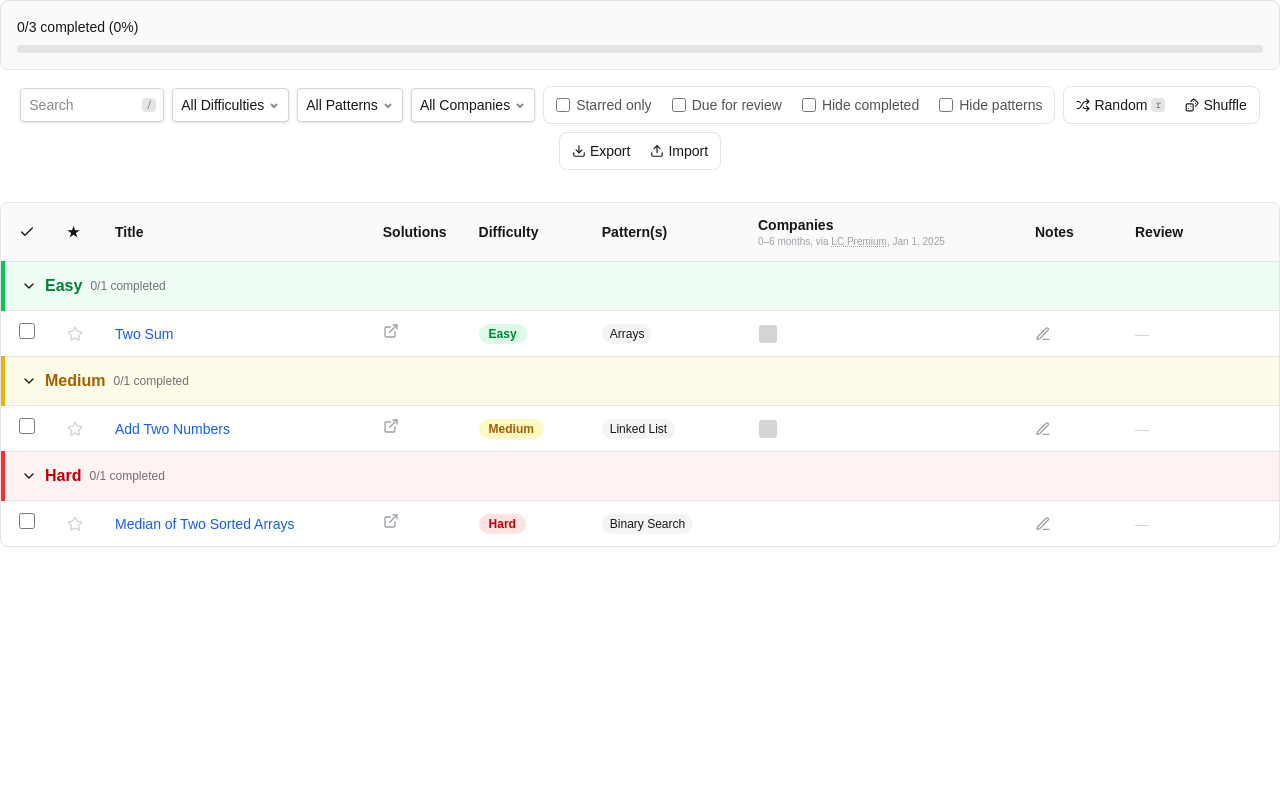
Test: QuestionsTable analytics › discards note changes when clicking Discard
Step 1. Click the button named "Add note for Two Sum" → x=1043, y=334, box 1035,326 -> 1051,342
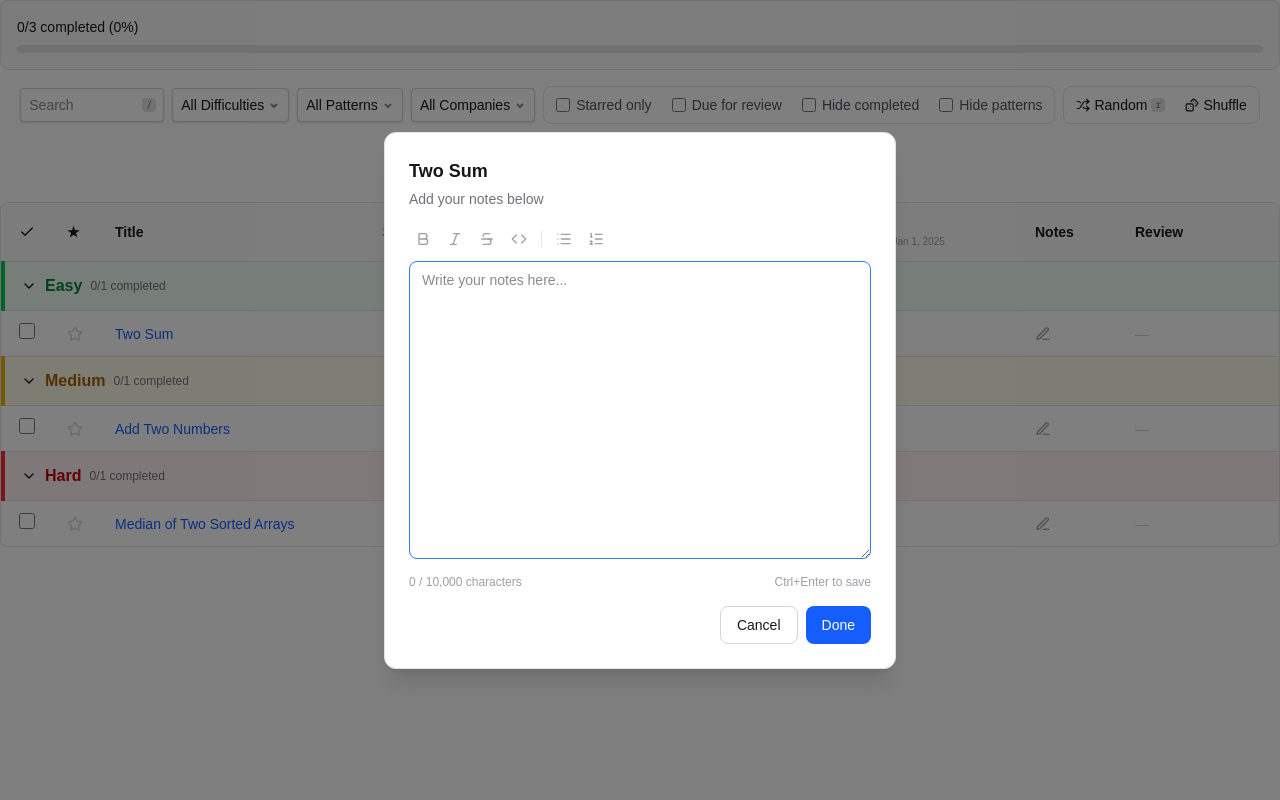
Step 2. Type "unsaved text" into the text box with placeholder "Write your notes here..." → x=640, y=410, box 409,260 -> 871,558
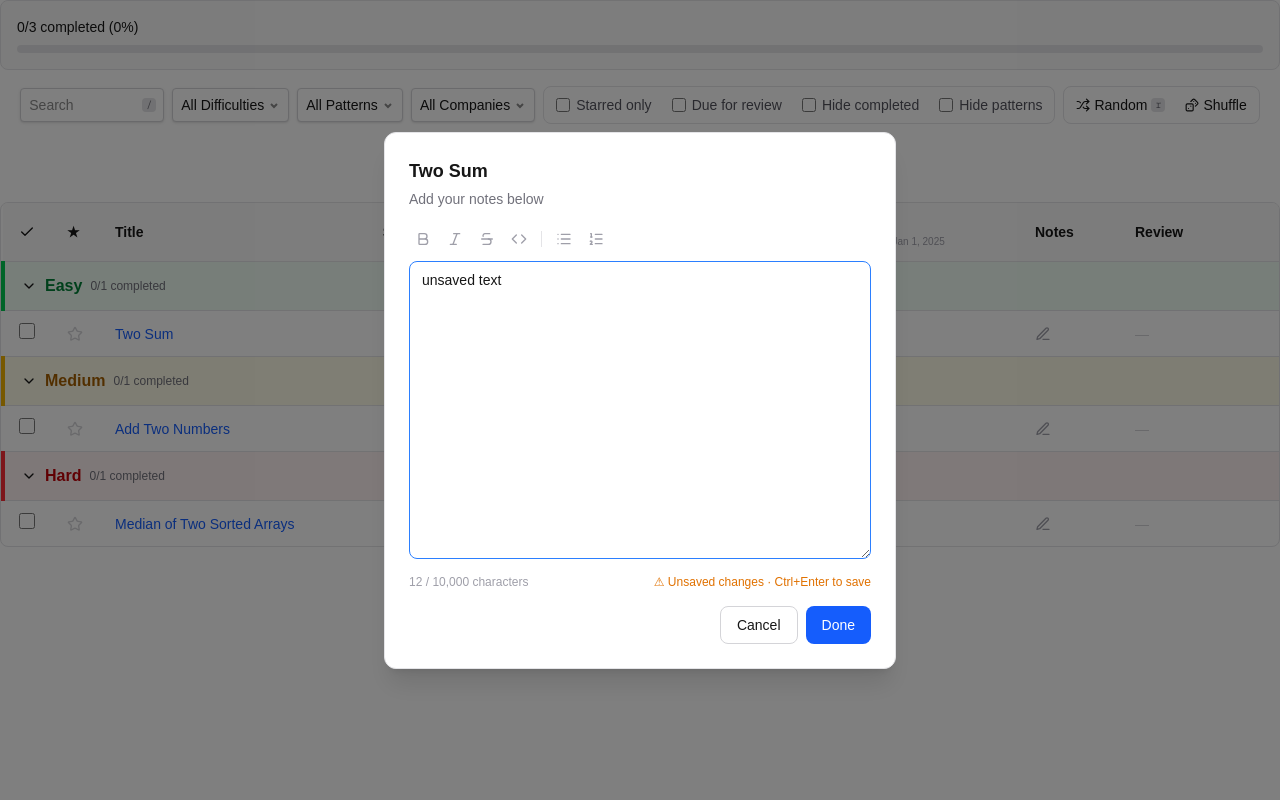
Step 3. Click the button "Cancel" → x=759, y=624, box 720,606 -> 798,644
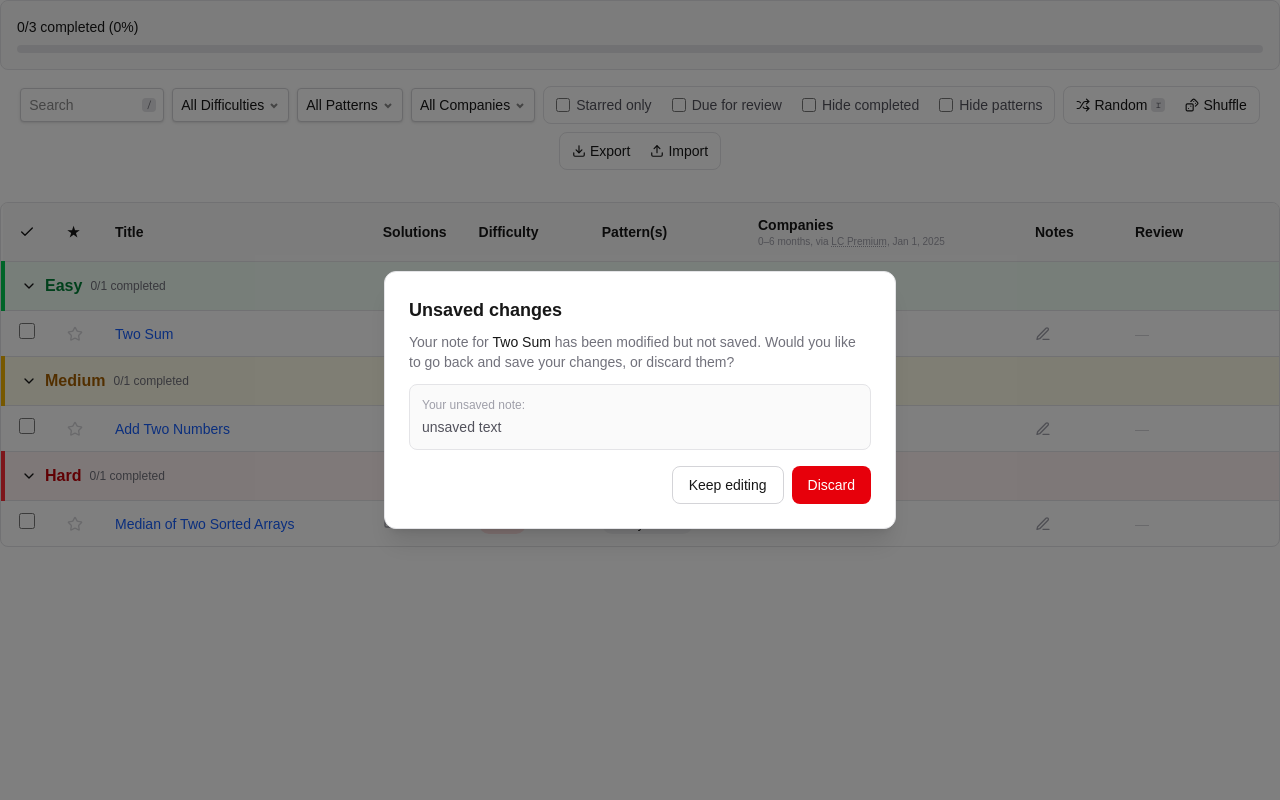
Step 4. Click the button "Discard" → x=831, y=485, box 792,466 -> 871,504
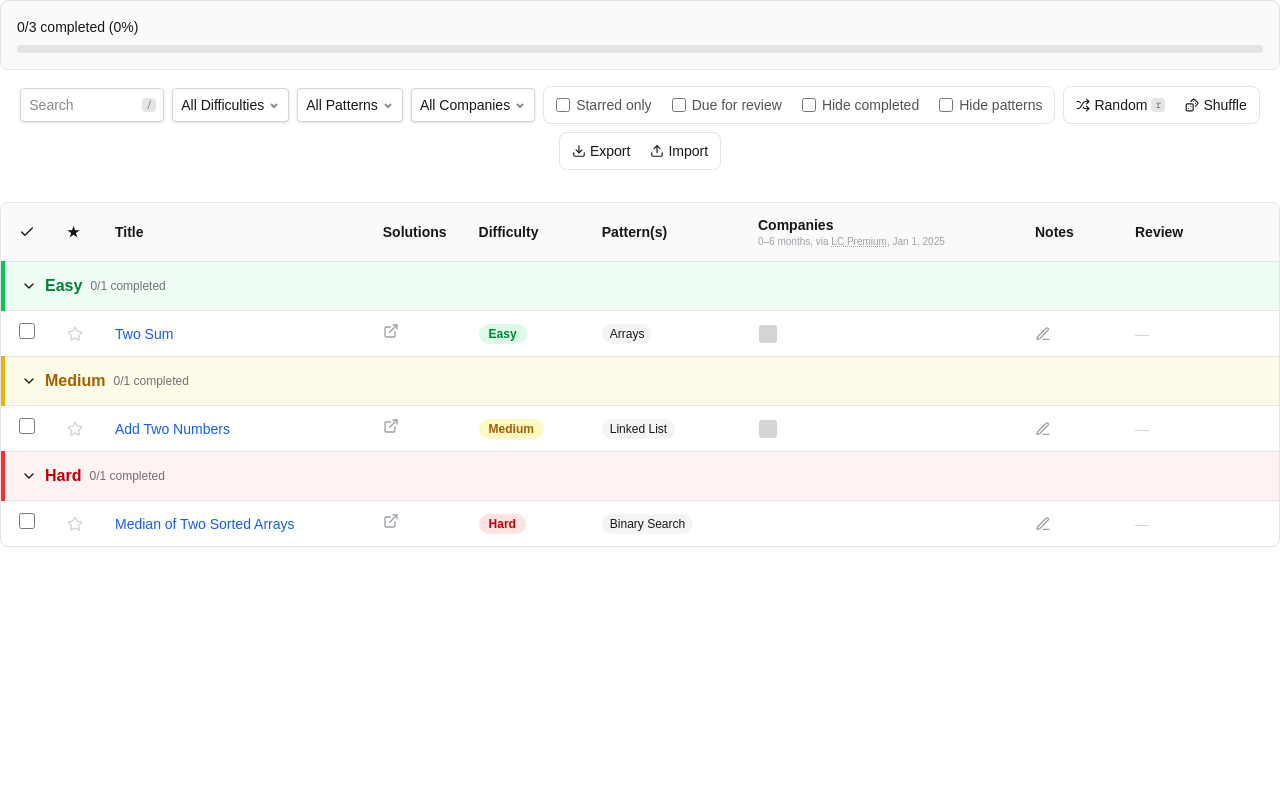
Expected: the number of buttons named "Add note for" is 3, 1035,326 -> 1051,342; 1035,421 -> 1051,437; 1035,516 -> 1051,532
Expected: the heading "Unsaved changes" is gone
